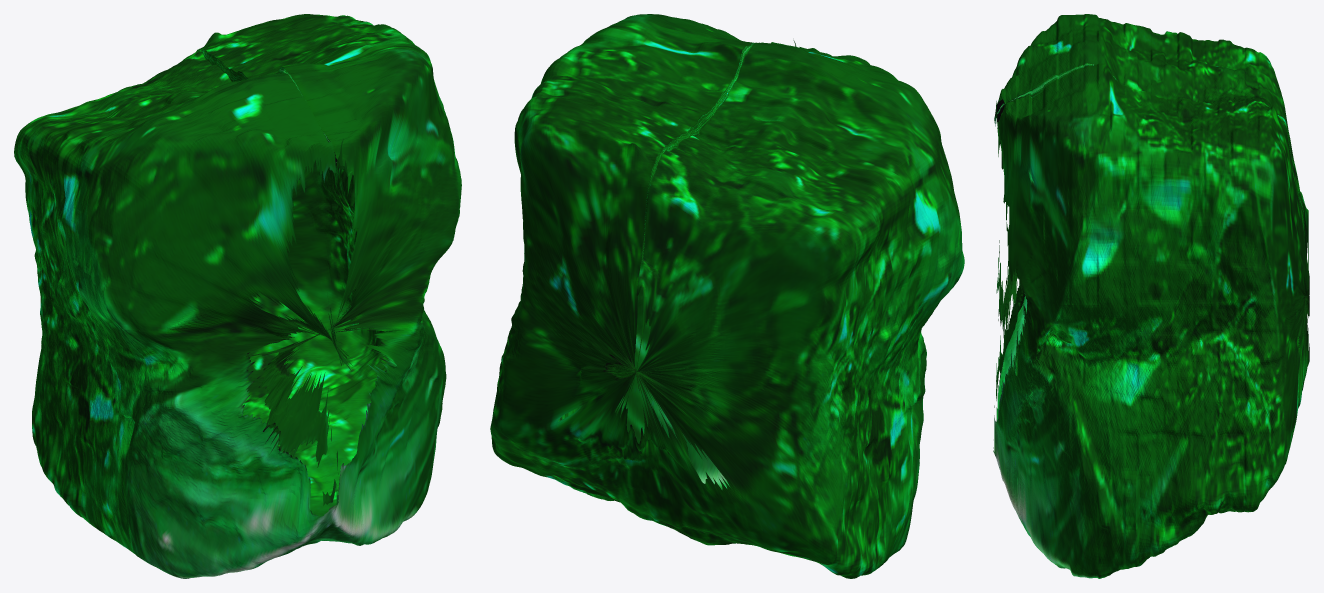
The picture shows the model from 3 angles, left to right: view 1: azimuth 30°, elevation 25°; view 2: azimuth 150°, elevation 25°; view 3: azimuth 270°, elevation 25°; orthographic projection. The views are drawn at different scales.
Visible parts, largest first — view 1: geometry_0; view 2: geometry_0; view 3: geometry_0.
Part boxes in pixels (x1,y1,x2,y2): geometry_0: (14,14,461,578); geometry_0: (490,14,964,578); geometry_0: (993,14,1309,578).
Bounding box in the file's own units: 1.49 × 1.81 × 1.11.
1 material, 1 textured.
